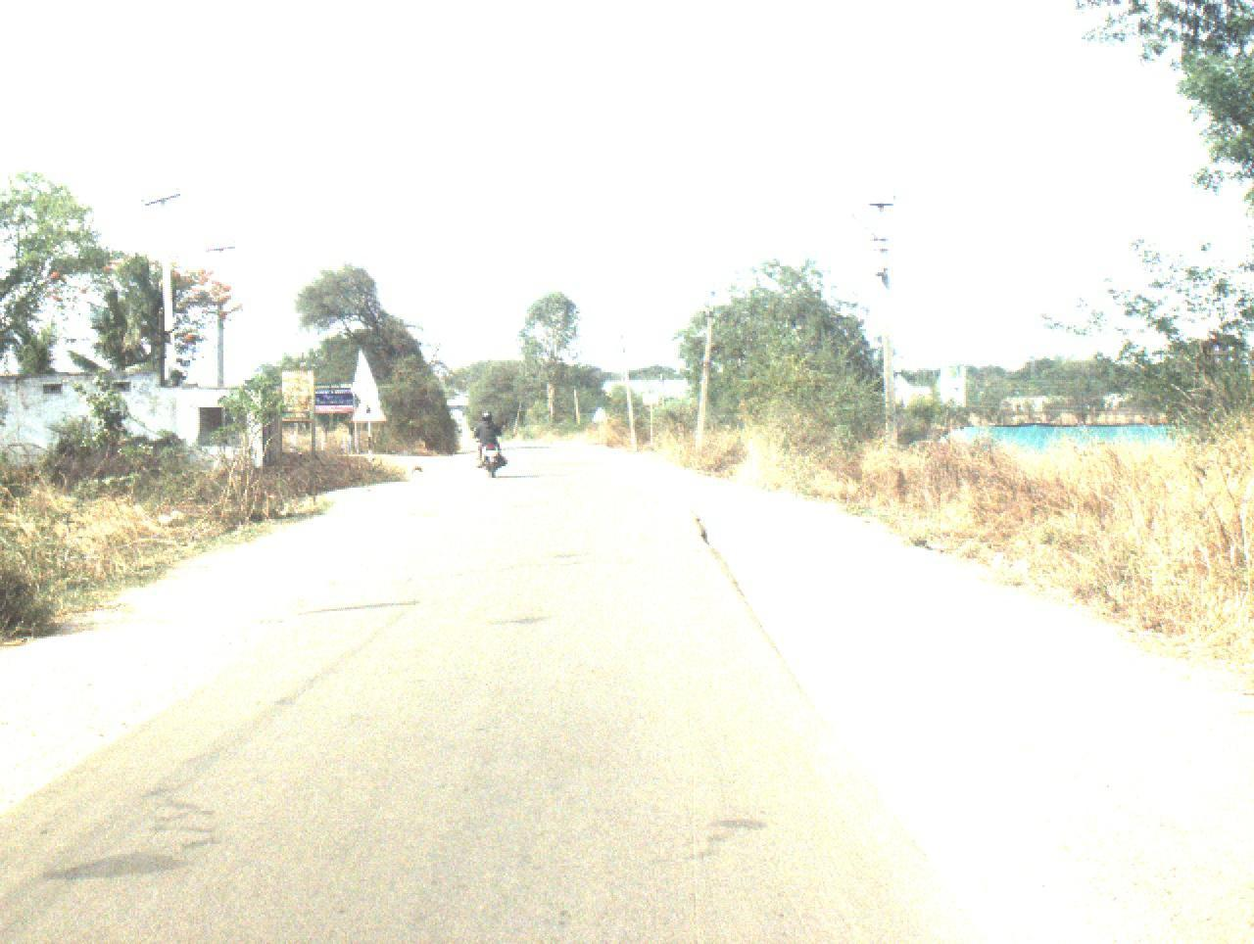streetlight: (849, 212, 892, 254)
